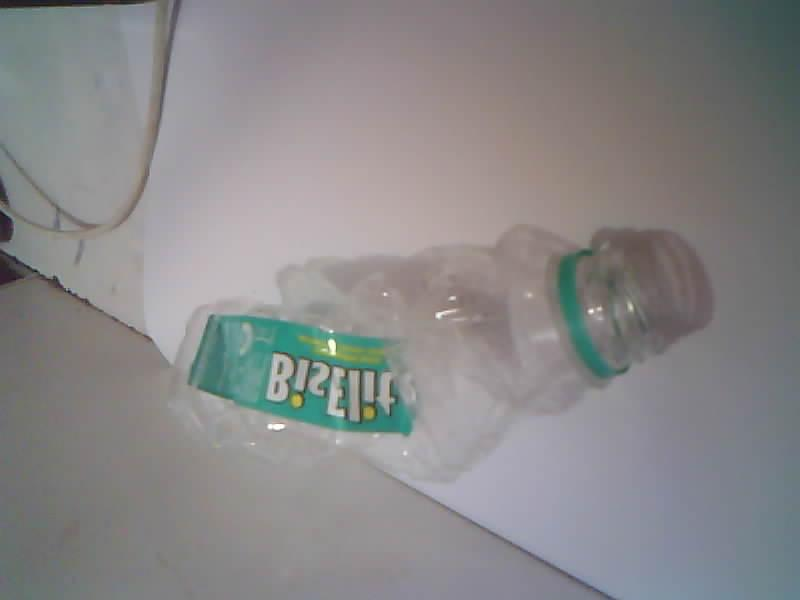non-biodegradable: (173, 226, 687, 480)
